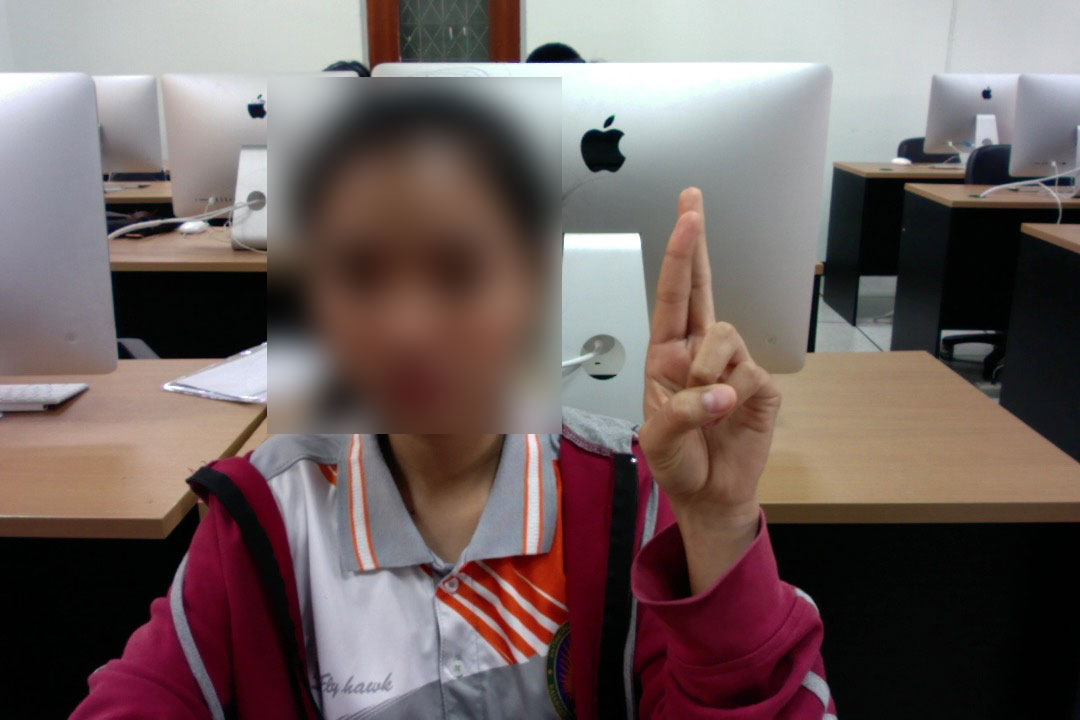rao: (627, 177, 791, 511)
